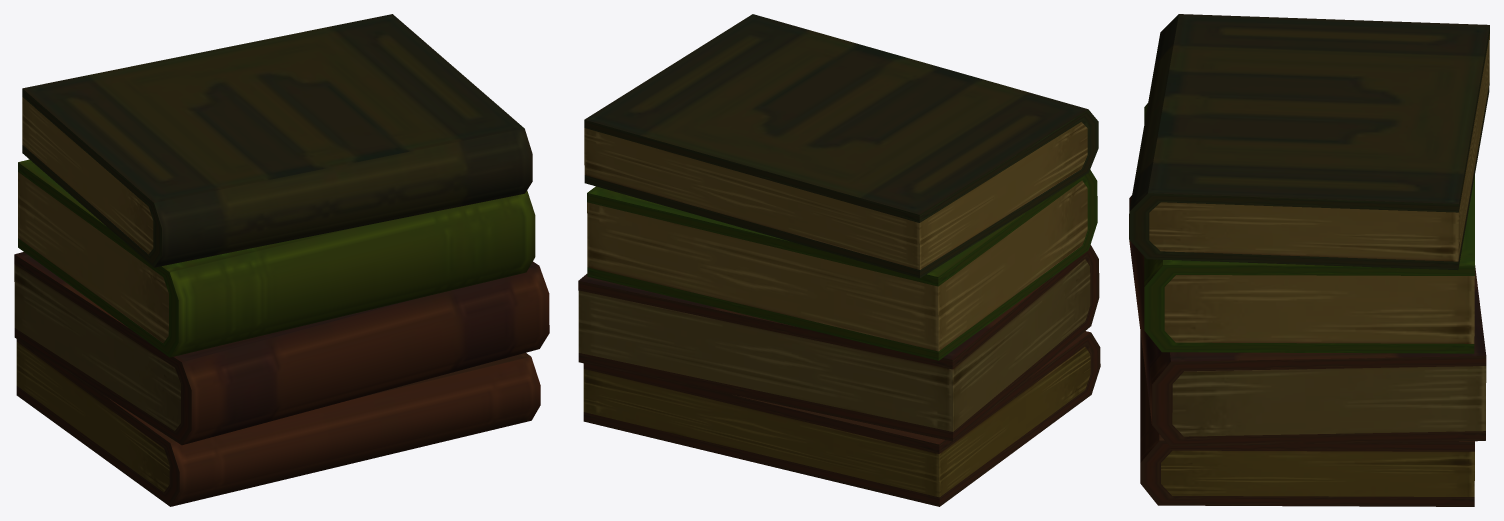
Rendered from book-stack-1.glb.
3 renders of one model, left to right at view 1: azimuth 30°, elevation 25°; view 2: azimuth 150°, elevation 25°; view 3: azimuth 270°, elevation 25°, orthographic. The views are drawn at different scales.
Parts seen in each view (by area): view 1: Book_Stack_1; view 2: Book_Stack_1; view 3: Book_Stack_1.
Part boxes in pixels (x1,y1,x2,y2): Book_Stack_1: (14, 14, 549, 506); Book_Stack_1: (578, 14, 1100, 506); Book_Stack_1: (1129, 14, 1489, 506).
Size of the model in its own units: 0.2849 by 0.2137 by 0.2263.
1 material, 1 textured.
